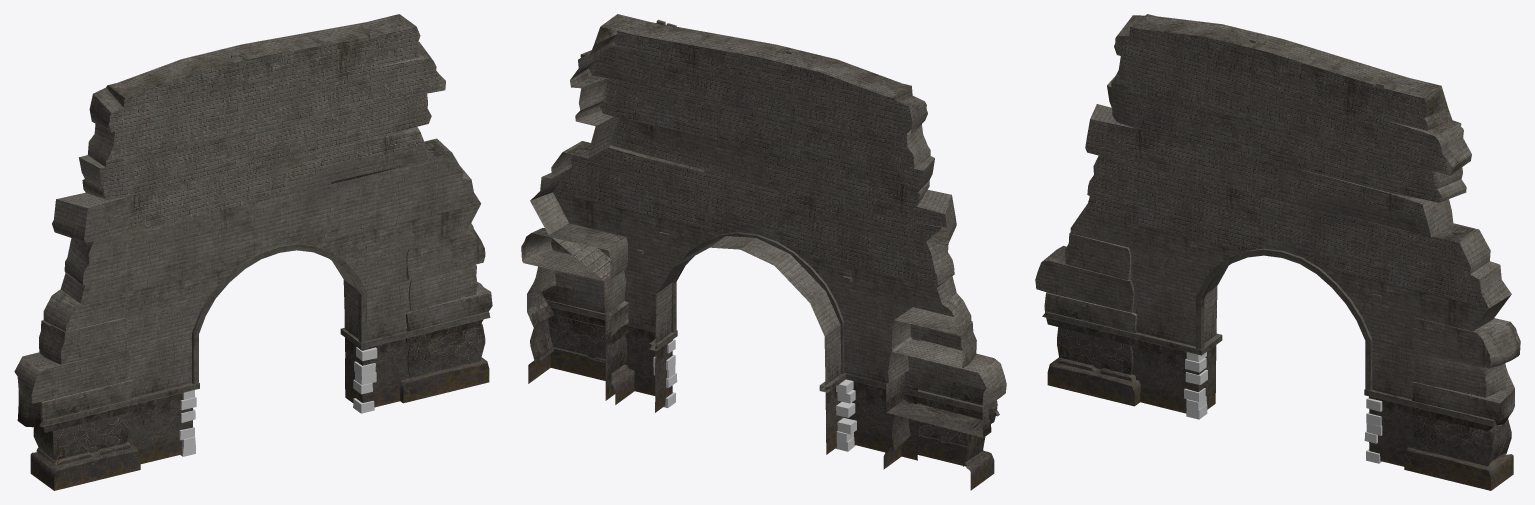
The model's file is b_zx_poqiang03_01.FBX.
3 views of the same model, side by side, from view 1: azimuth 30°, elevation 25°; view 2: azimuth 150°, elevation 25°; view 3: azimuth 330°, elevation 25° (orthographic).
Parts seen in each view (by area): view 1: b_zx_poqiang03_01, b_zx_poqiang03_02; view 2: b_zx_poqiang03_01, b_zx_poqiang03_02; view 3: b_zx_poqiang03_01, b_zx_poqiang03_02.
Boxes of the visible parts, left/top/right/bottom form: b_zx_poqiang03_01: left=14, top=14, right=492, bottom=490; b_zx_poqiang03_02: left=179, top=347, right=377, bottom=456; b_zx_poqiang03_01: left=521, top=14, right=1006, bottom=490; b_zx_poqiang03_02: left=653, top=339, right=856, bottom=451; b_zx_poqiang03_01: left=1035, top=14, right=1520, bottom=490; b_zx_poqiang03_02: left=1184, top=352, right=1382, bottom=463.
Size of the model in its own units: 25.52 by 20.17 by 2.38.
